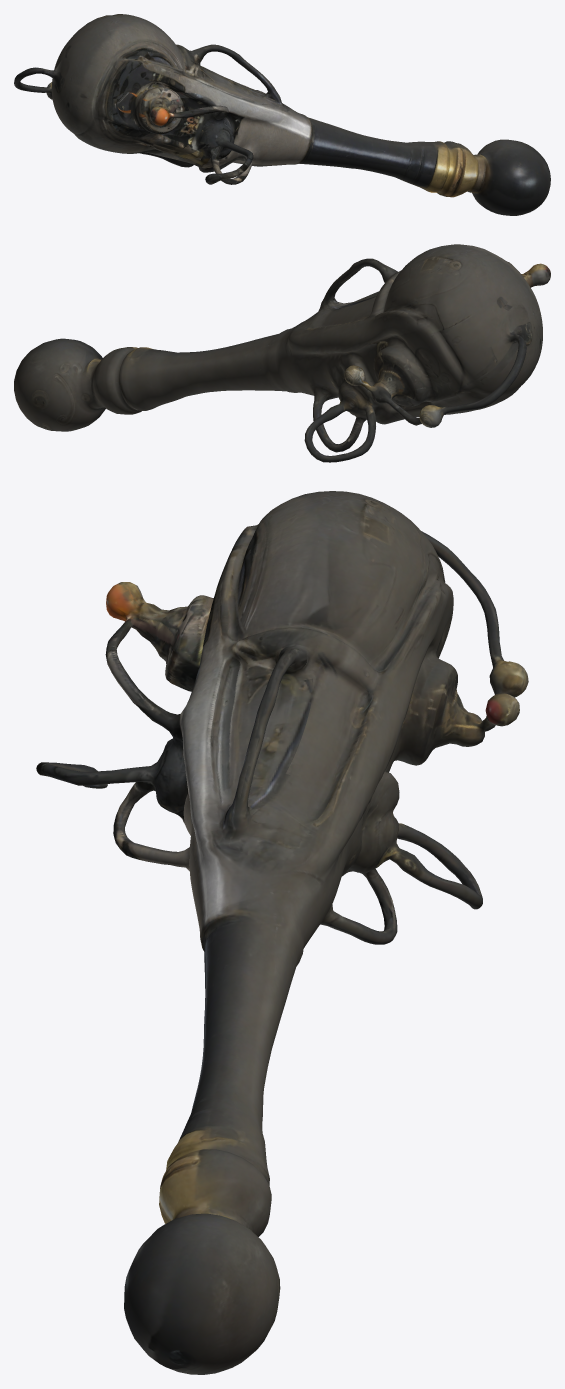
Rendered from COOKED.fbx.
3 views of the same model, one above another, from view 1: azimuth 30°, elevation 25°; view 2: azimuth 150°, elevation 25°; view 3: azimuth 270°, elevation 25° (orthographic). The views are drawn at different scales.
Parts seen in each view (by area): view 1: Mesh1_Mesh1.003; view 2: Mesh1_Mesh1.003; view 3: Mesh1_Mesh1.003.
Part boxes in pixels (box(x1,y1,x2,y2)): Mesh1_Mesh1.003: box(14, 14, 550, 215); Mesh1_Mesh1.003: box(14, 244, 550, 462); Mesh1_Mesh1.003: box(36, 491, 528, 1374).
Size of the model in its own units: 200 by 104 by 90.84.
Materials: 1 (1 with a texture image).
